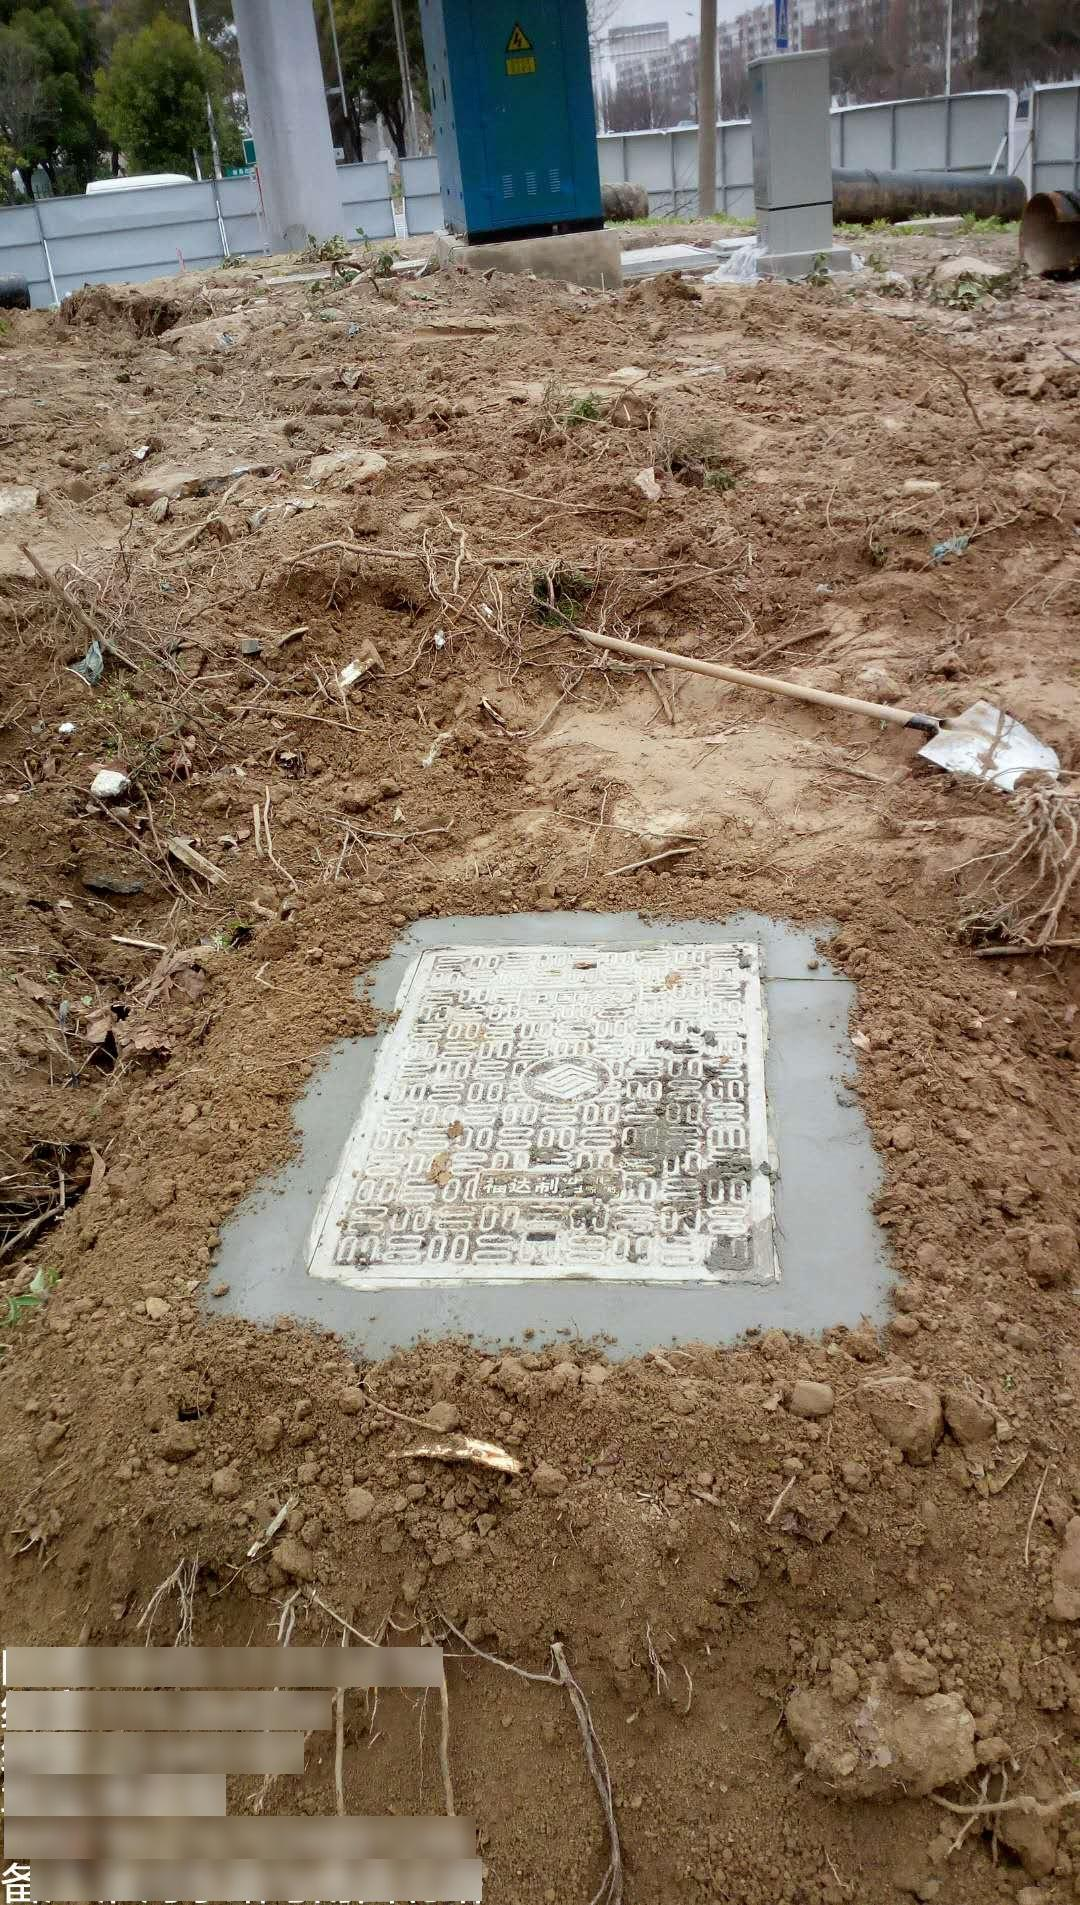wellcover: (295, 917, 857, 1329)
